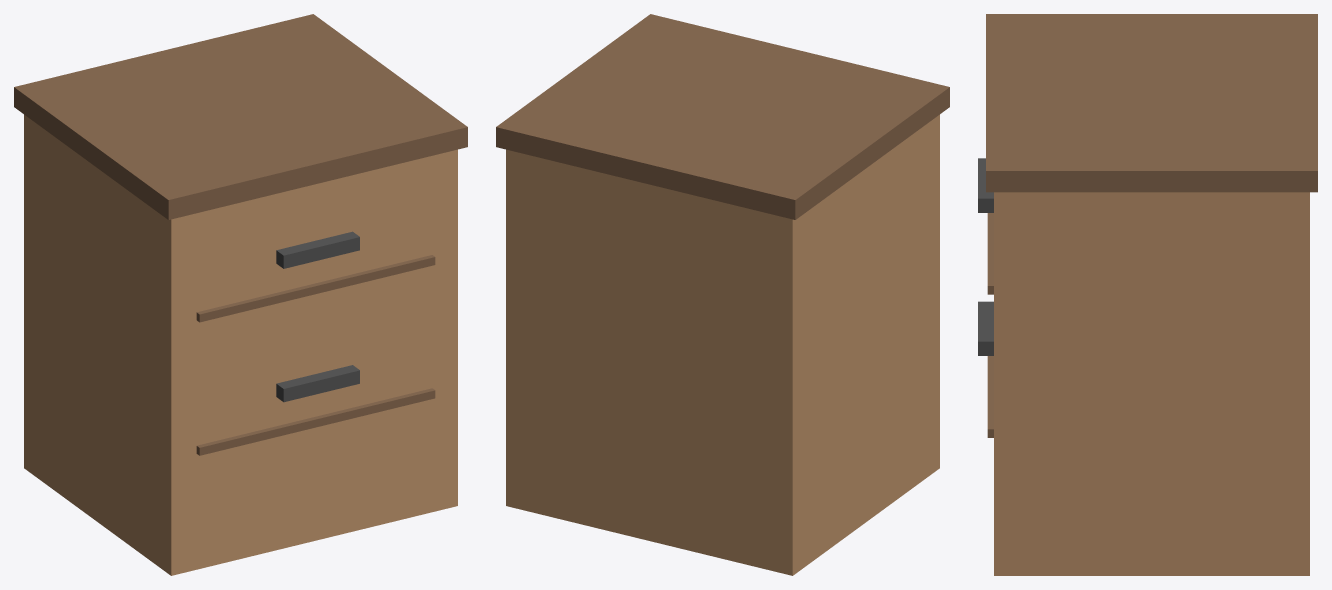
The model's file is nightstand.glb.
The picture shows the model from 3 angles, left to right: view 1: azimuth 30°, elevation 25°; view 2: azimuth 150°, elevation 25°; view 3: azimuth 270°, elevation 25°; orthographic projection. The views are drawn at different scales.
Parts seen in each view (by area): view 1: furniture; view 2: furniture; view 3: furniture.
Boxes of the visible parts, box(x1,y1,x2,y2) form: furniture: box(14, 14, 467, 575); furniture: box(496, 14, 949, 575); furniture: box(978, 14, 1317, 575).
Bounding box in the file's own units: 0.47 × 0.57 × 0.43.
